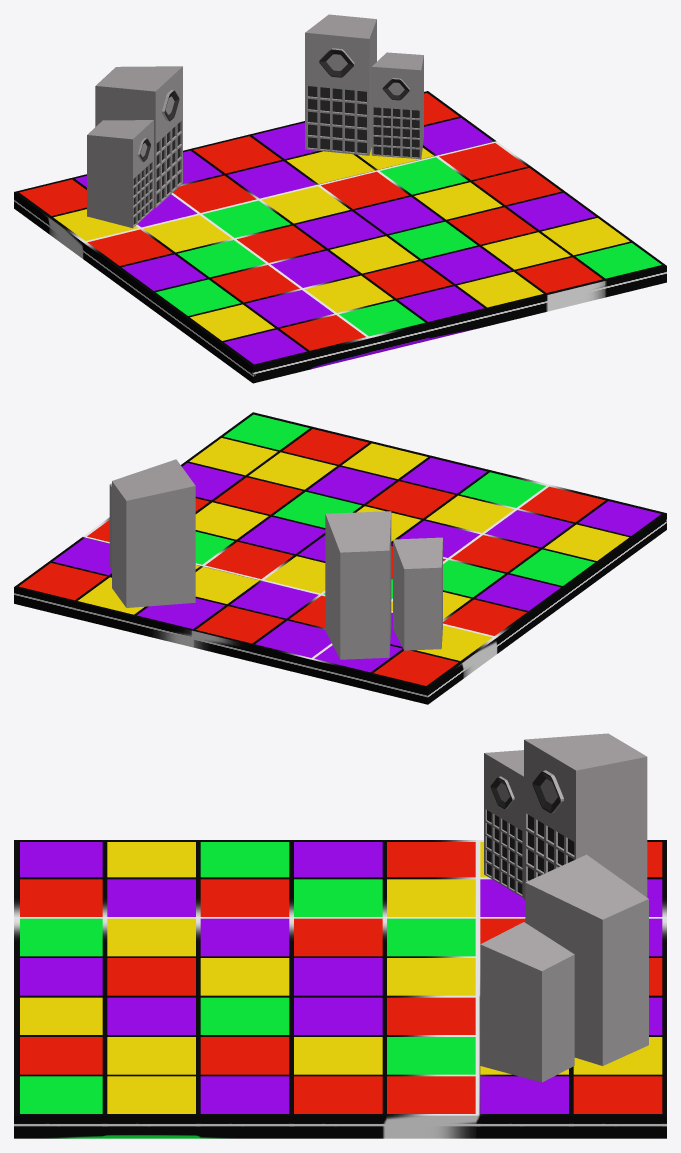
The model's file is disco.fbx.
3 views of the same model, one above another, from view 1: azimuth 30°, elevation 25°; view 2: azimuth 150°, elevation 25°; view 3: azimuth 270°, elevation 25° (orthographic). The views are drawn at different scales.
Parts seen in each view (by area): view 1: Icosphere; view 2: Icosphere; view 3: Icosphere.
Boxes of the visible parts, box(x1,y1,x2,y2) form: Icosphere: box(14, 14, 666, 383); Icosphere: box(14, 412, 666, 704); Icosphere: box(14, 733, 666, 1138).
Size of the model in its own units: 984 by 303 by 984.
